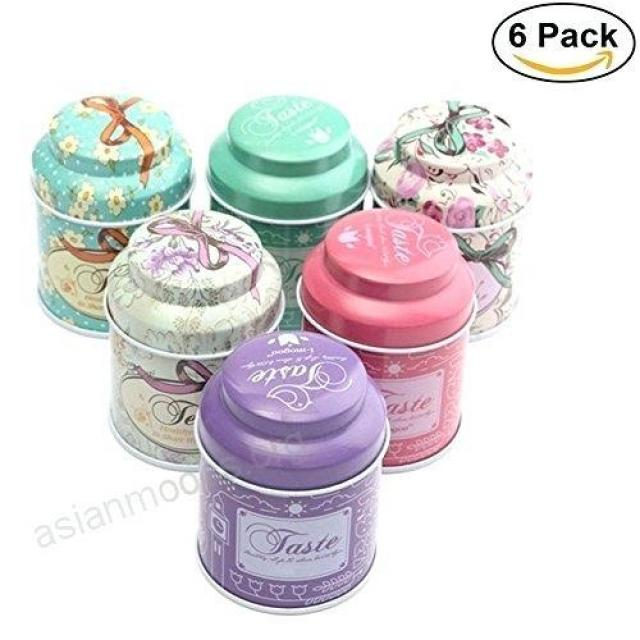metel: (271, 206, 517, 486), (179, 328, 409, 622), (354, 87, 571, 334), (20, 90, 221, 348), (191, 78, 388, 291)
